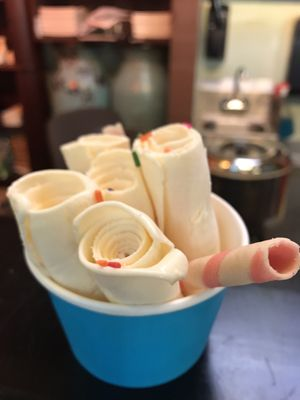pizza: (5, 168, 103, 300)
sushi: (7, 156, 296, 389), (74, 200, 188, 306)
